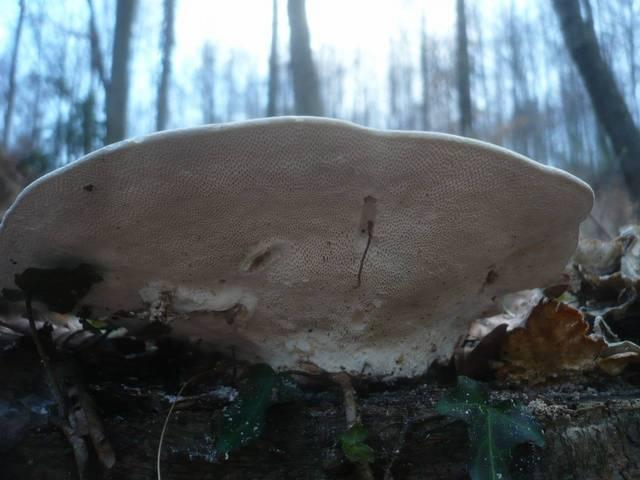Non-edible Mushroom: (0, 112, 596, 391)
